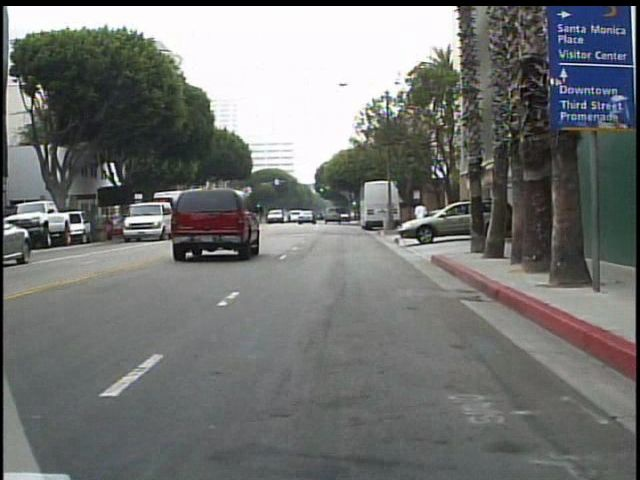person: (415, 197, 434, 237)
